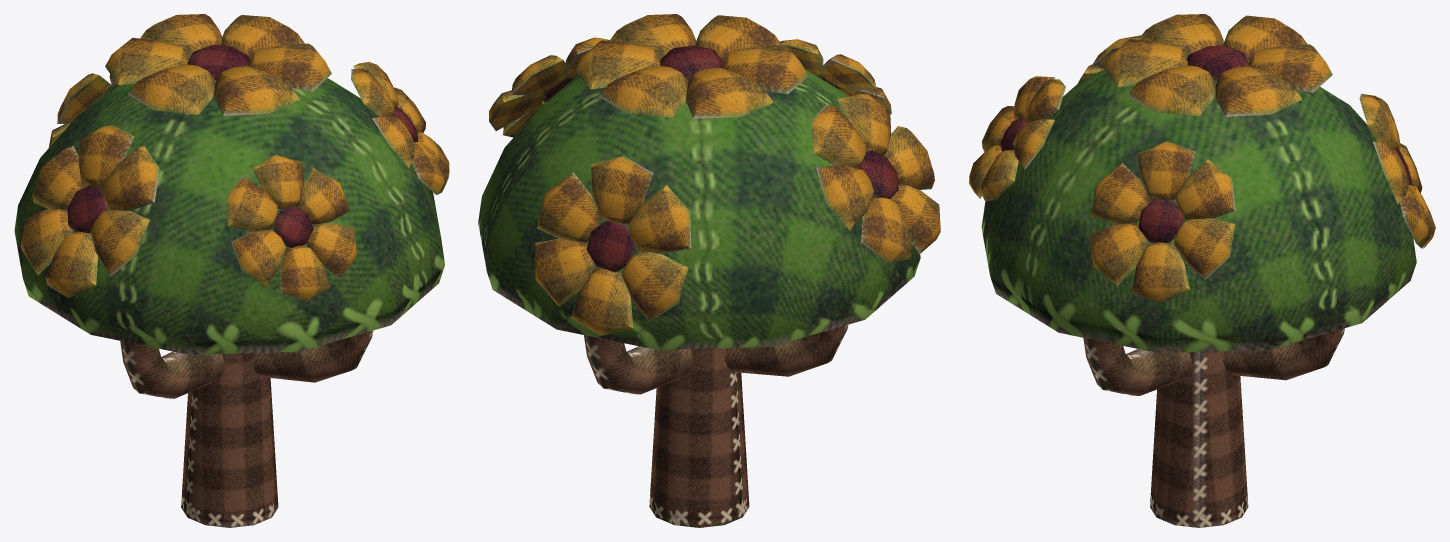
File: lpb_cs_plant2.fbx
The picture shows the model from 3 angles, left to right: view 1: azimuth 30°, elevation 25°; view 2: azimuth 150°, elevation 25°; view 3: azimuth 270°, elevation 25°; orthographic projection. The views are drawn at different scales.
Visible parts, largest first — view 1: lpb_cs_plant2; view 2: lpb_cs_plant2; view 3: lpb_cs_plant2.
Part boxes in pixels (<box>): lpb_cs_plant2: <box>14,14,449,527</box>; lpb_cs_plant2: <box>478,14,940,527</box>; lpb_cs_plant2: <box>969,14,1435,527</box>.
Bounding box in the file's own units: 84.29 × 90.2 × 83.82.
